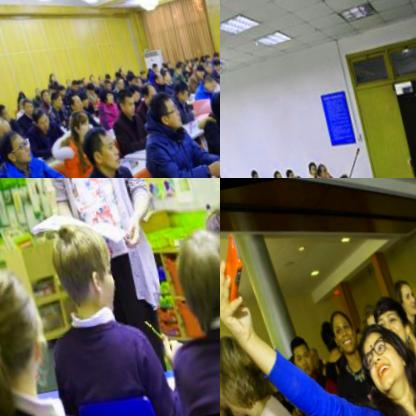head: (34, 203, 124, 328), (159, 218, 220, 338), (0, 257, 53, 393), (351, 317, 414, 399), (220, 331, 267, 416), (191, 184, 220, 289), (77, 120, 125, 178), (369, 294, 411, 350), (323, 305, 359, 356), (144, 86, 180, 129), (0, 126, 30, 170), (283, 334, 314, 376), (389, 272, 416, 315), (62, 108, 89, 140), (315, 319, 338, 352), (112, 84, 136, 115), (205, 86, 220, 126), (137, 78, 158, 103), (28, 105, 48, 129), (170, 76, 189, 101), (62, 89, 82, 112), (198, 69, 216, 93), (93, 85, 112, 104), (45, 88, 62, 109), (302, 155, 318, 177), (123, 81, 140, 101), (304, 345, 320, 365), (189, 62, 204, 82), (407, 71, 416, 102), (311, 159, 325, 178), (0, 112, 9, 139), (149, 67, 163, 84), (17, 98, 30, 115), (36, 86, 49, 103), (170, 59, 182, 77), (111, 73, 123, 89), (335, 167, 352, 178), (29, 84, 41, 99), (279, 163, 291, 178), (75, 92, 86, 108), (267, 165, 280, 178), (134, 64, 146, 78), (124, 69, 135, 84), (0, 100, 7, 122), (66, 77, 77, 91), (81, 80, 92, 94), (99, 74, 110, 88), (158, 67, 169, 81), (209, 55, 220, 69), (44, 70, 55, 83), (200, 57, 211, 70), (93, 71, 103, 85), (54, 82, 64, 95), (116, 64, 126, 76), (201, 51, 210, 63), (131, 73, 140, 84), (246, 167, 255, 178), (77, 73, 86, 83), (147, 60, 156, 70), (161, 57, 170, 67), (46, 81, 54, 92), (62, 76, 70, 87), (73, 76, 81, 87), (157, 58, 165, 69), (85, 69, 92, 81), (210, 49, 217, 60), (196, 54, 203, 64), (101, 71, 108, 80), (183, 56, 190, 65), (191, 54, 198, 62), (218, 45, 220, 54)
